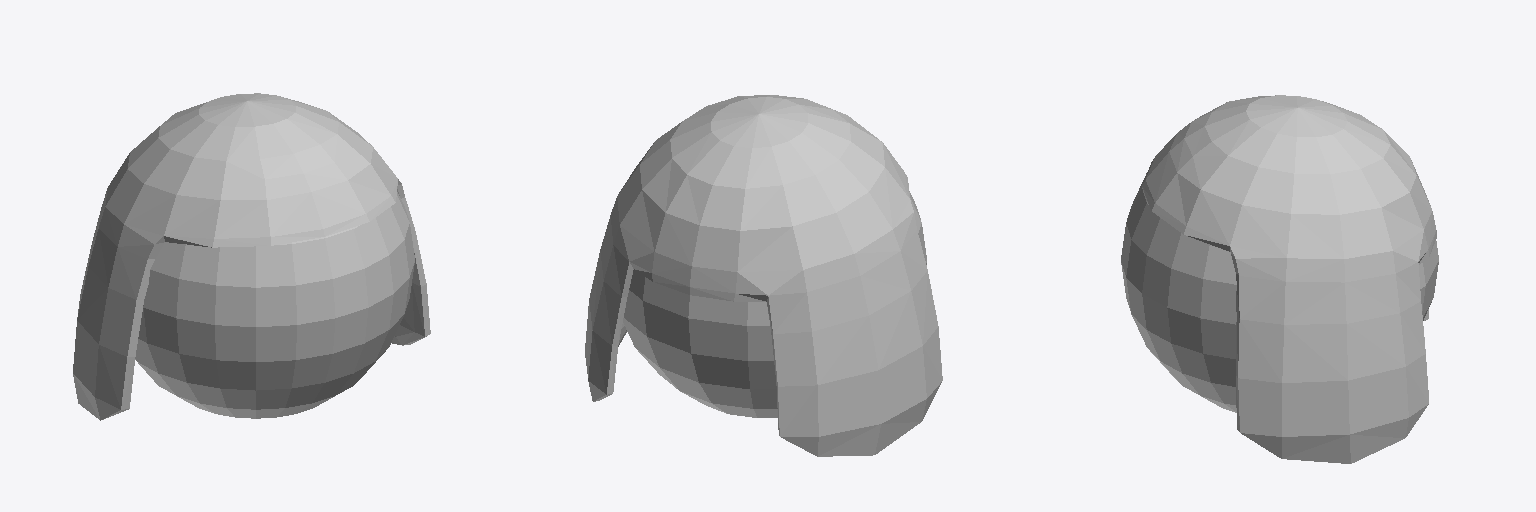
The model's file is head.obj.
3 renders of one model, left to right at view 1: azimuth 30°, elevation 25°; view 2: azimuth 150°, elevation 25°; view 3: azimuth 270°, elevation 25°, orthographic.
Visible parts, largest first — view 1: KERORO; view 2: KERORO; view 3: KERORO.
Part boxes in pixels (x1,y1,x2,y2): KERORO: (73, 93, 430, 420); KERORO: (585, 95, 942, 456); KERORO: (1121, 95, 1438, 463).
Bounding box in the file's own units: 5.79 × 5.13 × 4.99.